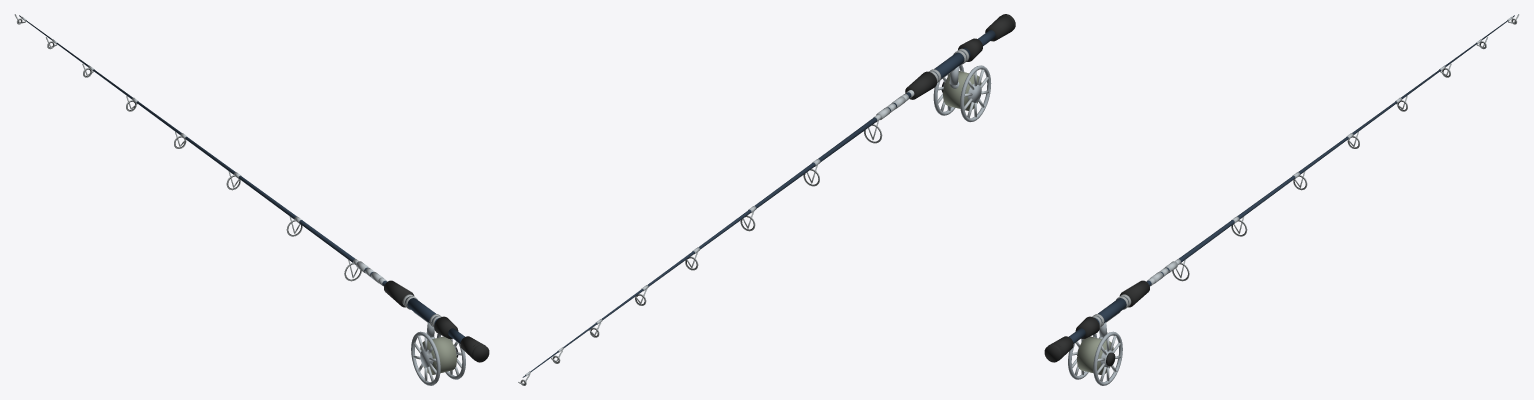
The model's file is reed_fly.glb.
The picture shows the model from 3 angles, left to right: view 1: azimuth 30°, elevation 25°; view 2: azimuth 150°, elevation 25°; view 3: azimuth 330°, elevation 25°; orthographic projection. The views are drawn at different scales.
Visible parts, largest first — view 1: Tapered carbon blank.005; view 2: Tapered carbon blank.005; view 3: Tapered carbon blank.005.
Boxes of the visible parts, x1,y1,x2,y2 form: Tapered carbon blank.005: [14, 14, 489, 385]; Tapered carbon blank.005: [518, 14, 1015, 385]; Tapered carbon blank.005: [1044, 14, 1519, 385].
Bounding box in the file's own units: 0.073 × 0.151 × 1.91.
